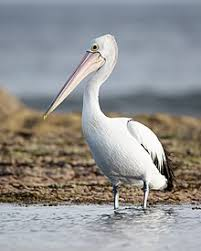pelican: (42, 33, 176, 213)
